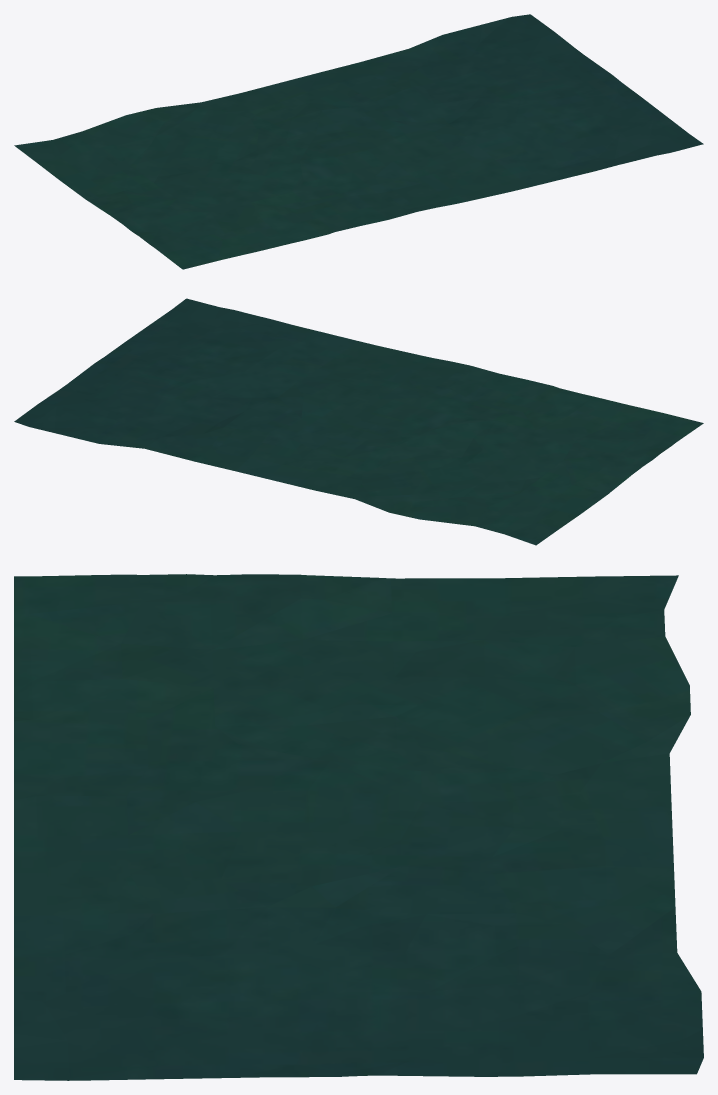
The picture shows the model from 3 angles, top to bottom: view 1: azimuth 30°, elevation 25°; view 2: azimuth 150°, elevation 25°; view 3: azimuth 270°, elevation 25°; orthographic projection. The views are drawn at different scales.
Bounding box in the file's own units: 52.22 × 0.5125 × 30.43.
Materials: 2 (2 with a texture image).
